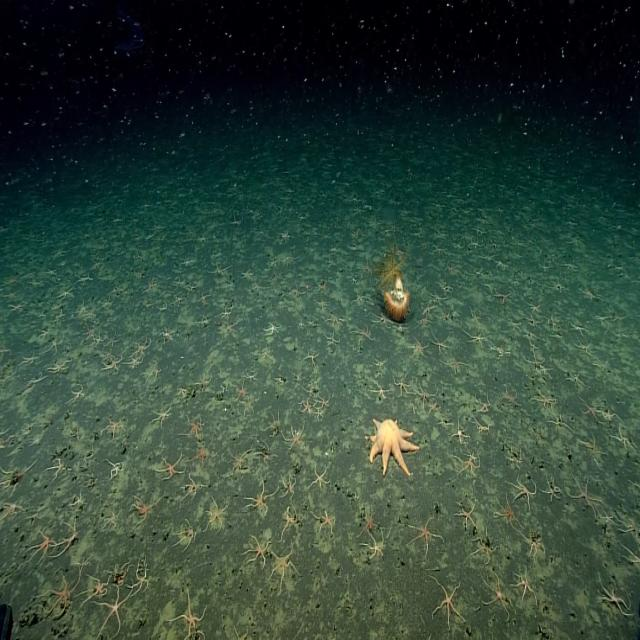brittle-stars: (172, 577, 210, 640), (427, 574, 471, 628), (38, 570, 85, 620), (92, 584, 130, 640), (590, 578, 640, 619), (406, 502, 444, 552), (479, 571, 516, 619), (566, 471, 604, 514), (0, 461, 42, 499), (202, 491, 234, 535), (469, 521, 500, 564), (270, 540, 298, 586), (510, 564, 538, 607), (245, 476, 275, 516), (246, 527, 272, 573), (78, 572, 113, 606), (129, 489, 161, 525), (508, 471, 539, 507), (152, 448, 182, 484), (59, 516, 82, 558), (498, 492, 524, 529), (188, 435, 218, 467), (452, 448, 482, 479), (33, 520, 62, 552), (0, 493, 32, 520), (618, 535, 640, 574), (228, 444, 253, 478), (360, 532, 388, 562), (174, 518, 198, 552), (453, 501, 480, 531), (612, 516, 640, 544), (103, 409, 131, 437), (129, 561, 151, 596), (278, 500, 298, 538), (543, 466, 562, 506), (522, 526, 544, 559), (180, 472, 204, 501), (314, 506, 336, 537), (310, 456, 331, 488), (151, 398, 175, 426), (47, 456, 72, 482), (282, 426, 306, 453), (614, 421, 634, 453), (256, 436, 280, 462), (414, 379, 434, 410), (391, 373, 413, 399), (265, 409, 284, 438), (444, 352, 469, 374), (581, 434, 607, 455), (183, 418, 210, 438), (50, 351, 77, 371), (101, 509, 123, 533), (531, 388, 557, 408), (282, 469, 300, 496), (549, 406, 571, 428), (501, 386, 524, 407), (125, 350, 148, 371), (110, 561, 128, 587), (352, 322, 375, 342), (102, 352, 125, 372), (370, 378, 389, 402), (241, 387, 259, 412), (133, 333, 154, 354), (475, 391, 493, 415), (360, 511, 377, 536), (599, 405, 619, 426), (580, 399, 602, 418), (145, 361, 164, 383), (523, 351, 546, 369), (502, 440, 522, 460), (430, 333, 450, 353), (490, 340, 510, 360), (325, 308, 345, 328), (46, 335, 66, 355), (451, 424, 469, 446), (410, 334, 428, 356), (105, 455, 122, 478), (466, 328, 487, 346), (229, 624, 252, 640), (372, 305, 390, 325), (76, 551, 93, 572), (234, 374, 250, 396), (19, 349, 42, 364), (302, 347, 320, 366), (68, 383, 86, 402), (24, 374, 41, 394), (220, 317, 235, 339), (257, 341, 273, 361), (471, 420, 492, 435), (220, 301, 234, 322), (243, 364, 260, 381), (265, 318, 282, 335), (105, 332, 122, 349), (424, 398, 440, 416), (72, 488, 86, 508), (574, 339, 591, 355), (300, 397, 314, 416), (436, 416, 452, 432), (194, 375, 210, 391), (568, 370, 582, 388), (313, 402, 325, 423), (324, 329, 338, 347), (508, 314, 520, 334), (175, 381, 189, 398), (92, 331, 107, 346), (428, 290, 446, 302), (314, 295, 329, 309), (304, 382, 315, 401), (0, 342, 11, 361), (162, 324, 176, 338), (536, 362, 551, 375), (318, 394, 331, 409), (198, 312, 214, 324), (391, 321, 408, 332), (465, 450, 478, 464), (416, 313, 429, 327), (82, 324, 95, 338), (438, 309, 453, 321), (526, 316, 540, 328), (602, 512, 614, 526), (40, 325, 50, 341), (468, 312, 481, 324), (418, 304, 432, 315), (595, 361, 608, 372)
